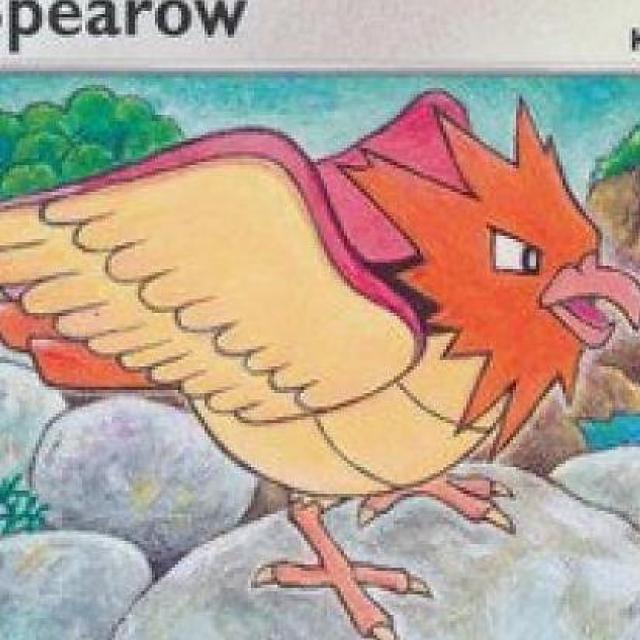Spearow: (178, 111, 640, 596)
